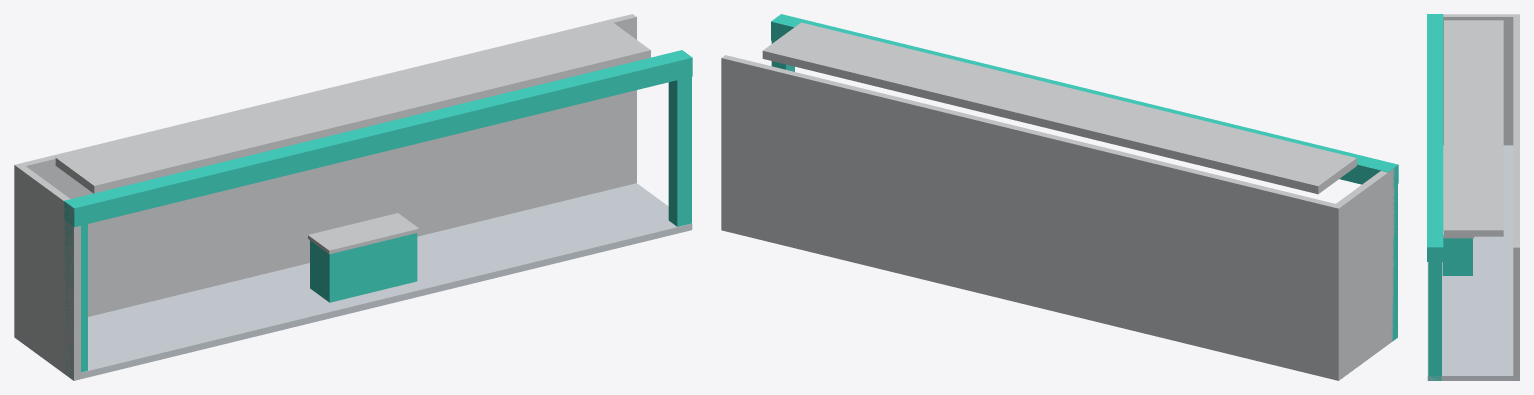
The picture shows the model from 3 angles, left to right: view 1: azimuth 30°, elevation 25°; view 2: azimuth 150°, elevation 25°; view 3: azimuth 270°, elevation 25°; orthographic projection. The views are drawn at different scales.
Parts seen in each view (by area): view 1: Exhibition Booth Concept; view 2: Exhibition Booth Concept; view 3: Exhibition Booth Concept.
Part boxes in pixels (x1,y1,x2,y2): Exhibition Booth Concept: (14, 14, 692, 380); Exhibition Booth Concept: (721, 14, 1398, 380); Exhibition Booth Concept: (1427, 14, 1519, 380).
Size of the model in its own units: 12 by 3.34 by 2.01.
